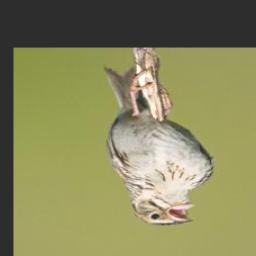Sparrow: (100, 64, 219, 228)
